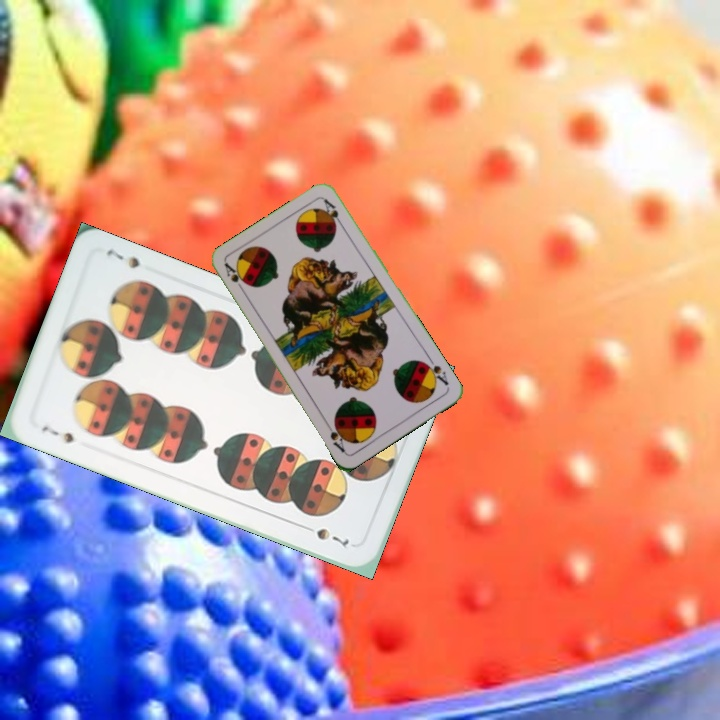S7: (37, 422, 77, 446)
SA: (419, 353, 451, 388), (220, 259, 248, 296)
